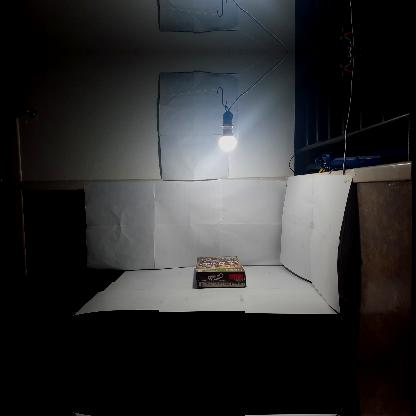Koko-Krunch: (196, 256, 246, 286)
